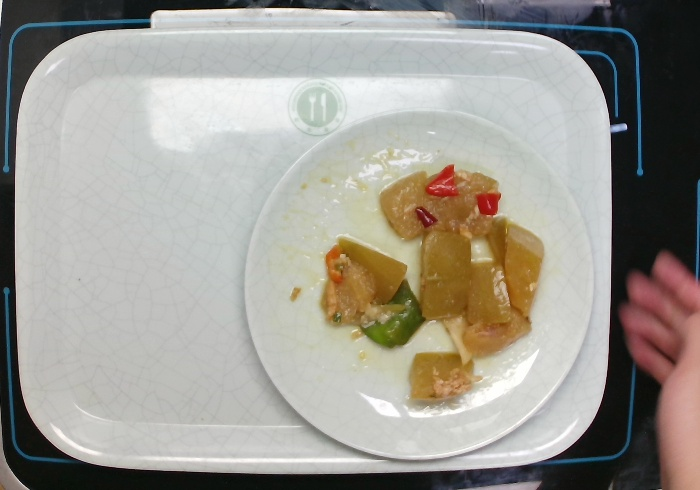JYsf-Da_Yuan_Pan: (237, 98, 605, 469)
